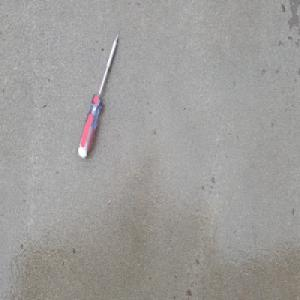Screwdriver: (76, 32, 119, 162)
